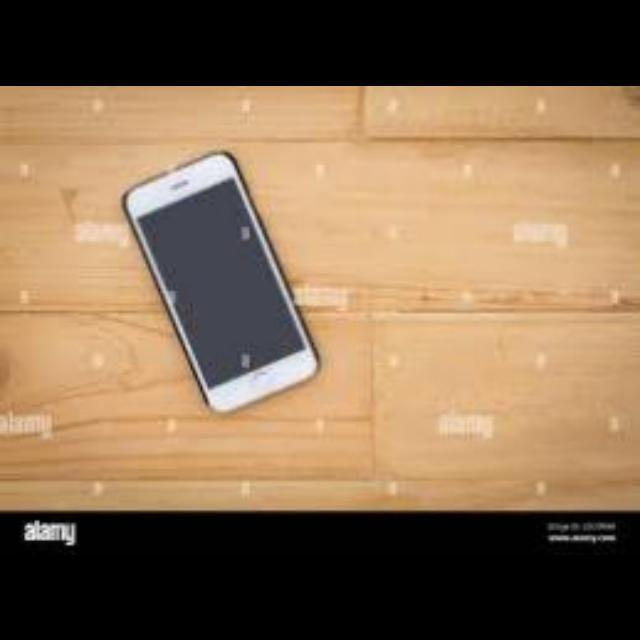Phone: (124, 148, 320, 412)
